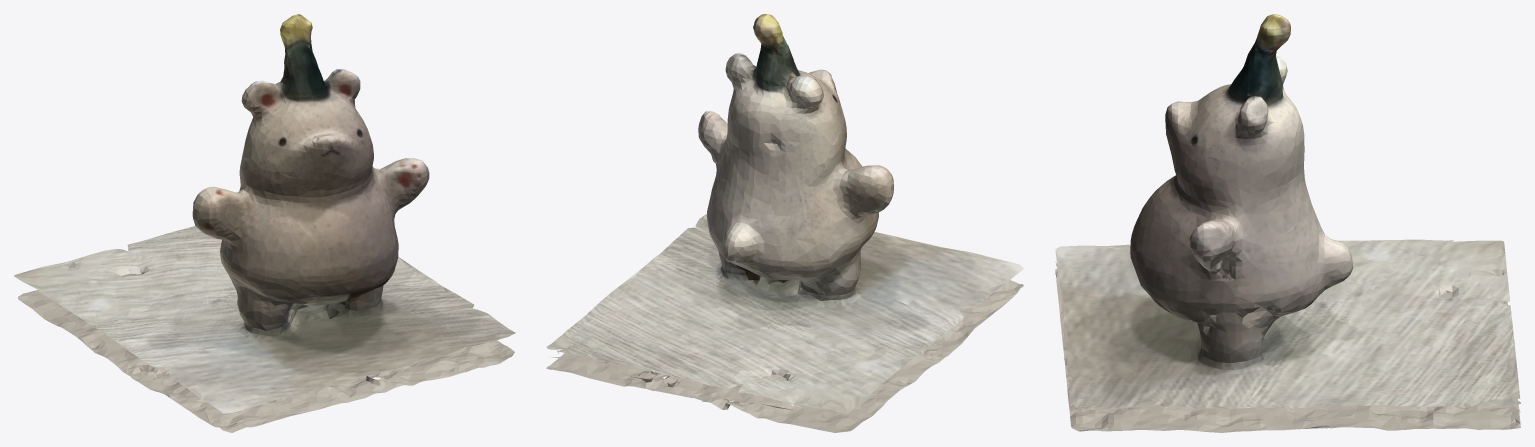
File: leaonie_pottery_bear.glb
The picture shows the model from 3 angles, left to right: view 1: azimuth 30°, elevation 25°; view 2: azimuth 150°, elevation 25°; view 3: azimuth 270°, elevation 25°; orthographic projection. The views are drawn at different scales.
Bounding box in the file's own units: 0.1884 × 0.1802 × 0.214.
1 material, 1 textured.
